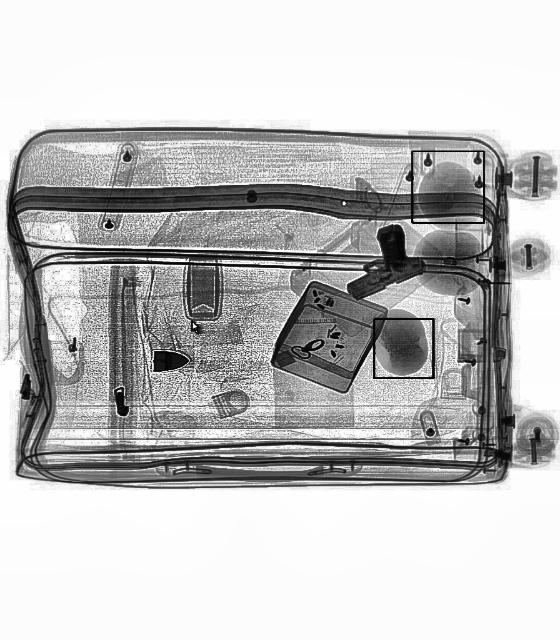Gun: (330, 218, 424, 304)
